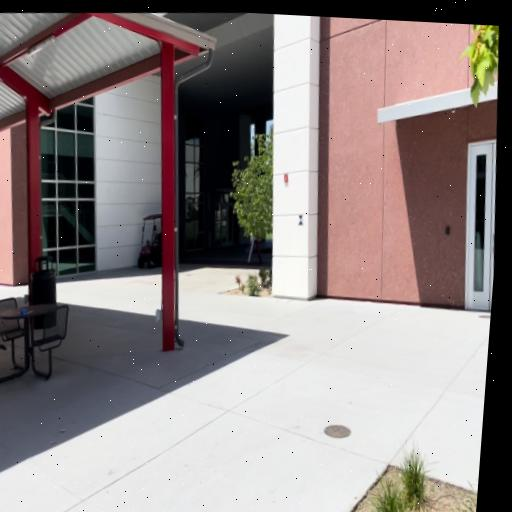target9: (298, 215, 304, 226)
